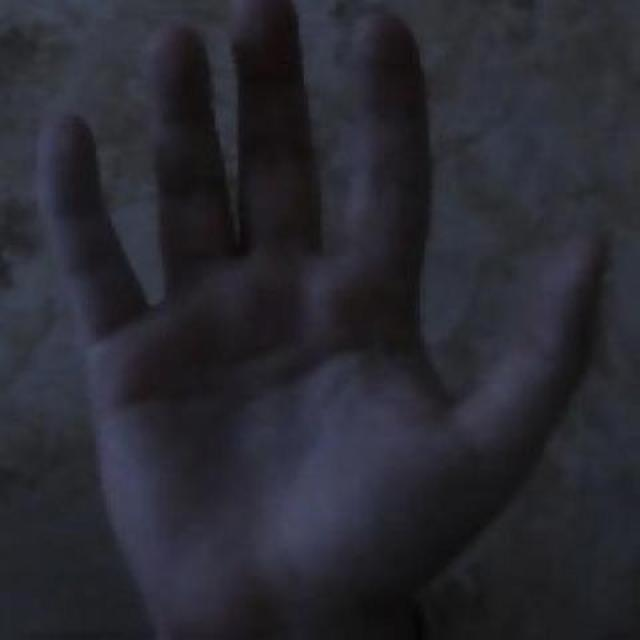Open Hand: (30, 2, 608, 640)
